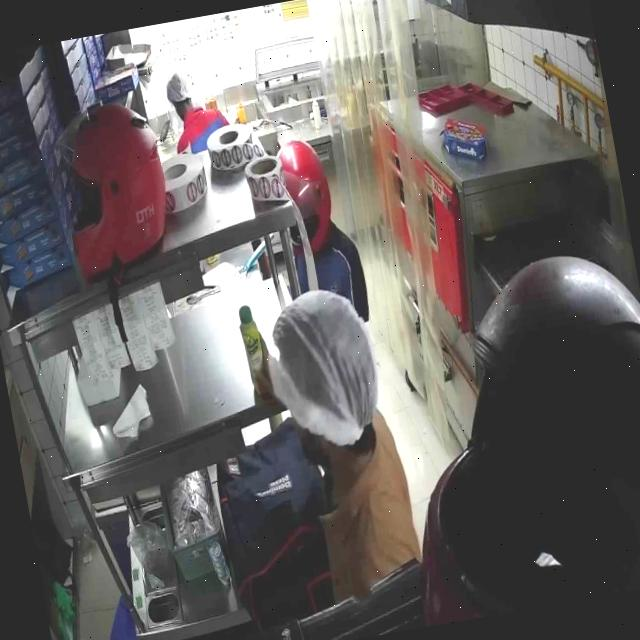helmet: (418, 256, 640, 626), (54, 100, 166, 282), (279, 137, 333, 256)
no_helmet: (269, 285, 377, 487), (166, 71, 194, 118)
